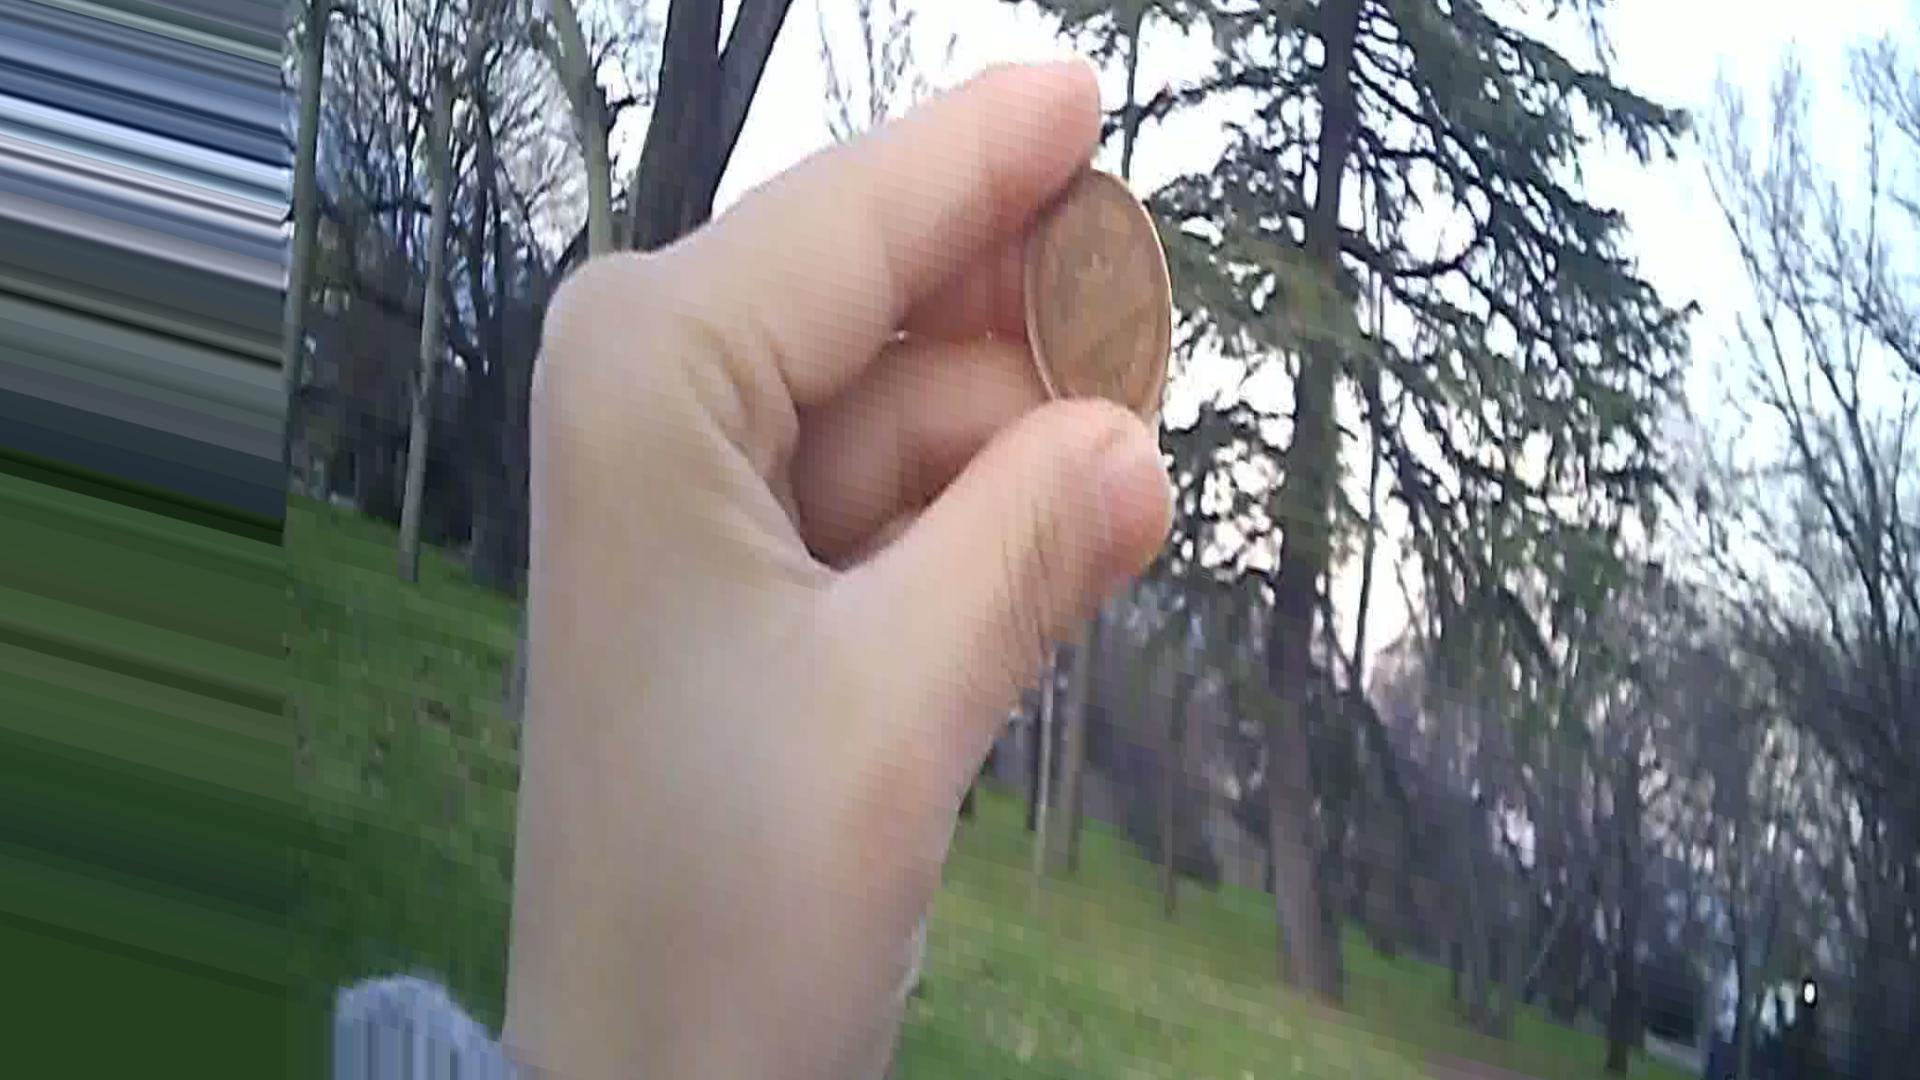10 Yen: (1023, 161, 1189, 443)
